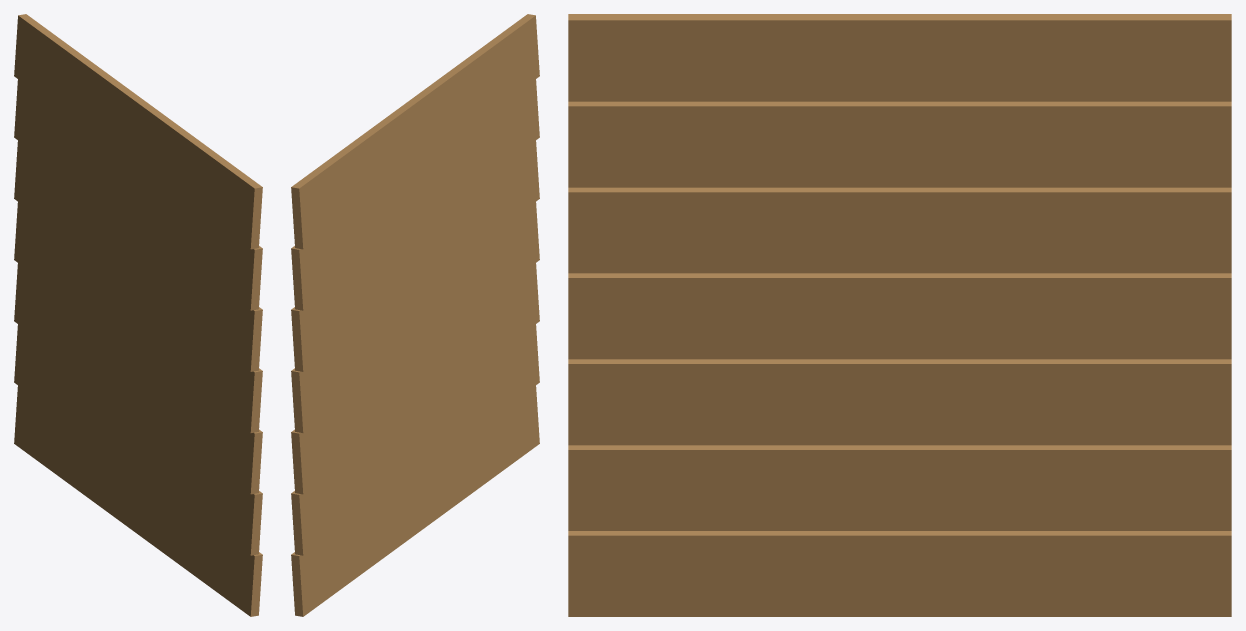
File: structure.cladding.timber.glb
3 views of the same model, side by side, from view 1: azimuth 30°, elevation 25°; view 2: azimuth 150°, elevation 25°; view 3: azimuth 270°, elevation 25° (orthographic). The views are drawn at different scales.
Parts seen in each view (by area): view 1: main__softwood; view 2: main__softwood; view 3: main__softwood.
Part boxes in pixels (bbox=[...]): main__softwood: bbox=[14, 14, 262, 616]; main__softwood: bbox=[291, 14, 539, 616]; main__softwood: bbox=[568, 14, 1231, 616].
Size of the model in its own units: 0.0297 by 0.9979 by 1.
